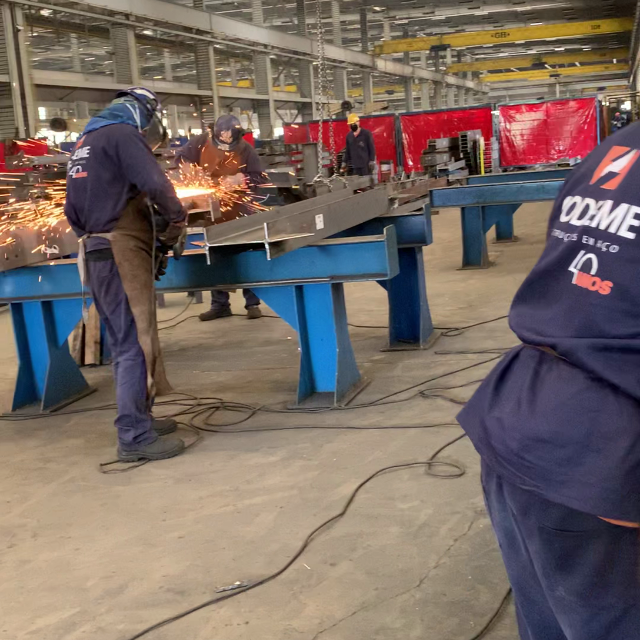glove: (160, 219, 187, 261)
helmet: (120, 86, 162, 126)
person: (64, 88, 196, 461)
safety-shoe: (115, 432, 189, 460), (152, 415, 179, 434)
